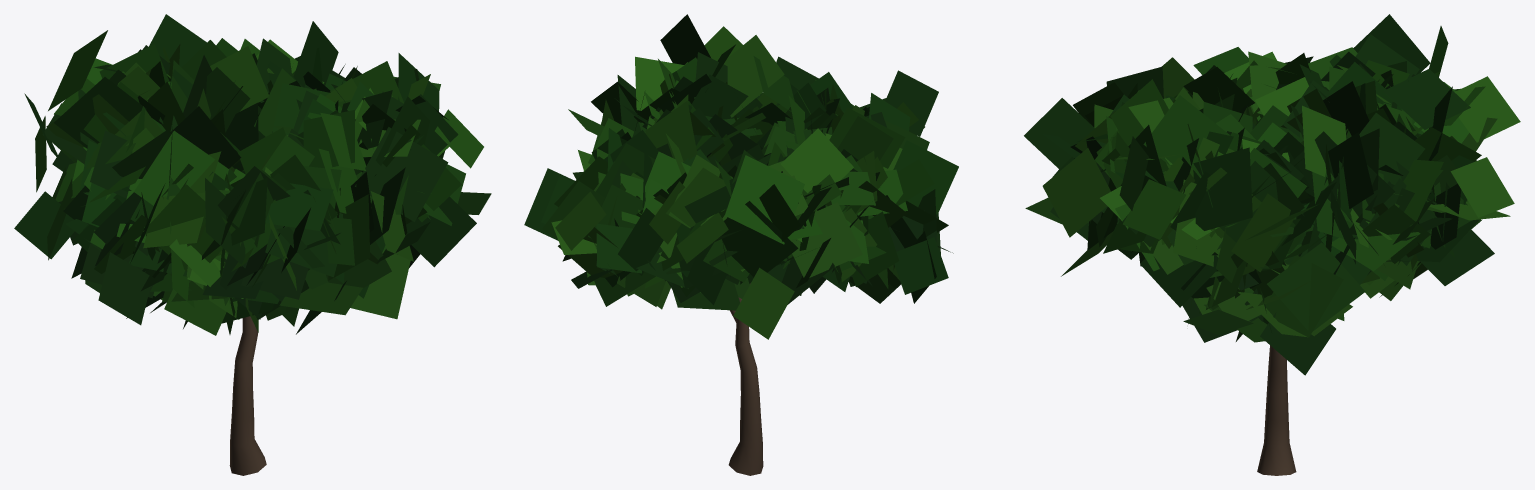
Rendered from tree_leafy_round.glb.
The picture shows the model from 3 angles, left to right: view 1: azimuth 30°, elevation 25°; view 2: azimuth 150°, elevation 25°; view 3: azimuth 270°, elevation 25°; orthographic projection. The views are drawn at different scales.
Parts seen in each view (by area): view 1: crown, trunk; view 2: crown, trunk; view 3: crown, trunk.
Part boxes in pixels (bbox=[...]): crown: bbox=[14, 14, 491, 335]; trunk: bbox=[229, 316, 266, 475]; crown: bbox=[524, 14, 958, 339]; trunk: bbox=[728, 283, 763, 475]; crown: bbox=[1024, 14, 1520, 375]; trunk: bbox=[1257, 345, 1296, 475].
Size of the model in its own units: 7.93 by 7.09 by 7.87.
